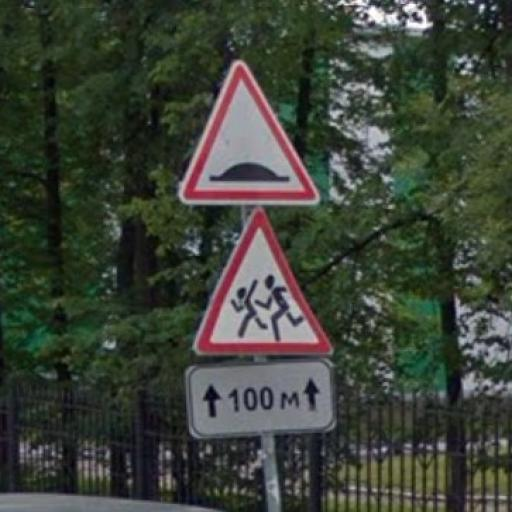traffic_sign: (179, 60, 324, 207), (193, 209, 335, 359)
